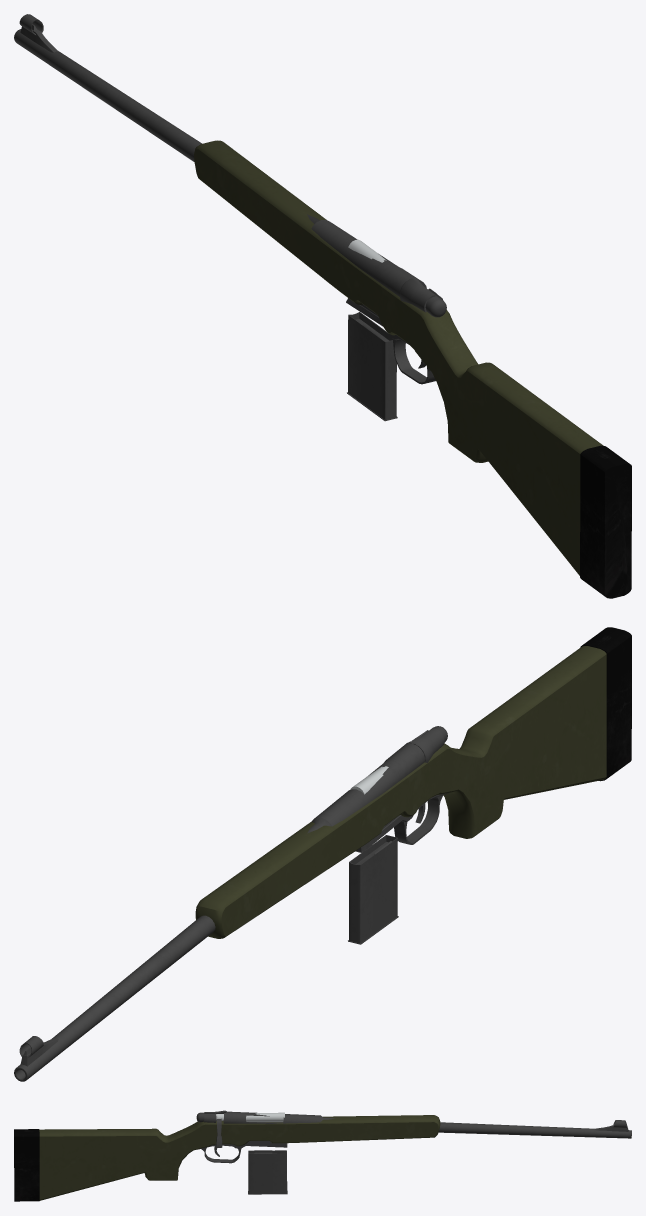
File: dmr_d14.gltf
3 views of the same model, one above another, from view 1: azimuth 30°, elevation 25°; view 2: azimuth 150°, elevation 25°; view 3: azimuth 270°, elevation 25° (orthographic). The views are drawn at different scales.
Parts seen in each view (by area): view 1: Body, Magazine; view 2: Body, Magazine; view 3: Body, Magazine, Bolt.
Boxes of the visible parts, x1,y1,x2,y2 form: Body: (14,14,631,598); Magazine: (347,312,397,421); Body: (14,627,631,1081); Magazine: (348,835,398,944); Body: (14,1110,631,1201); Magazine: (248,1150,287,1194); Bolt: (196,1112,284,1147).
Size of the model in its own units: 0.0499 by 0.18 by 1.14.
1 material, 1 textured.
